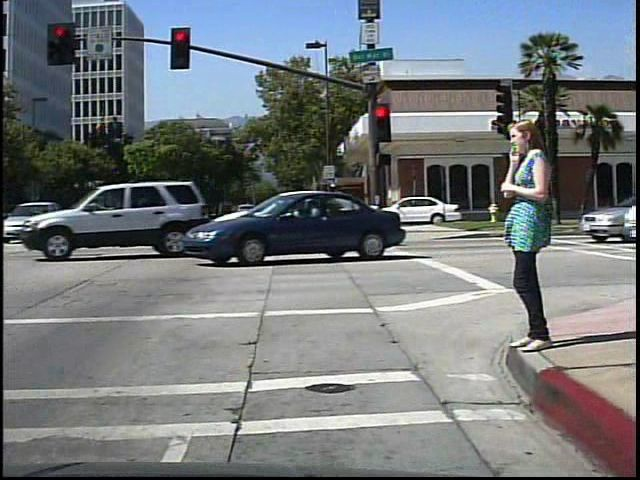person: (495, 110, 557, 361)
